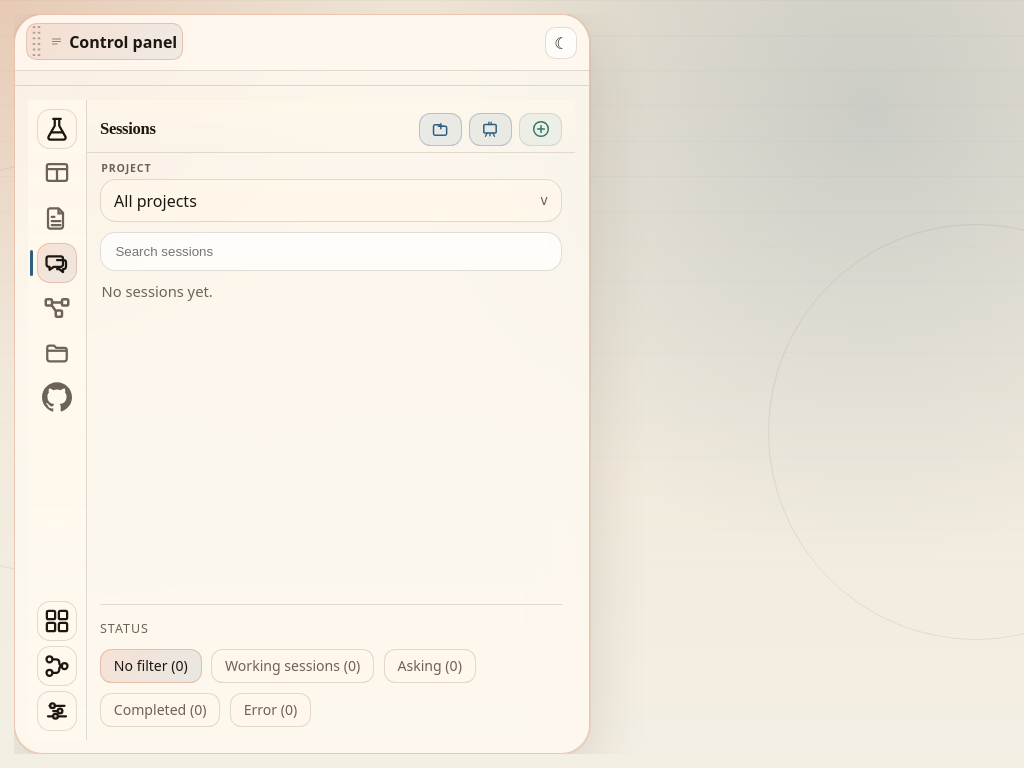
App workspace layout › saves the current workspace label and updates the Workspaces list and browser title
The width and height of the screenshot is (1024, 768).
Click the button named "Workspaces" at (57, 173), box [37,153,77,193]
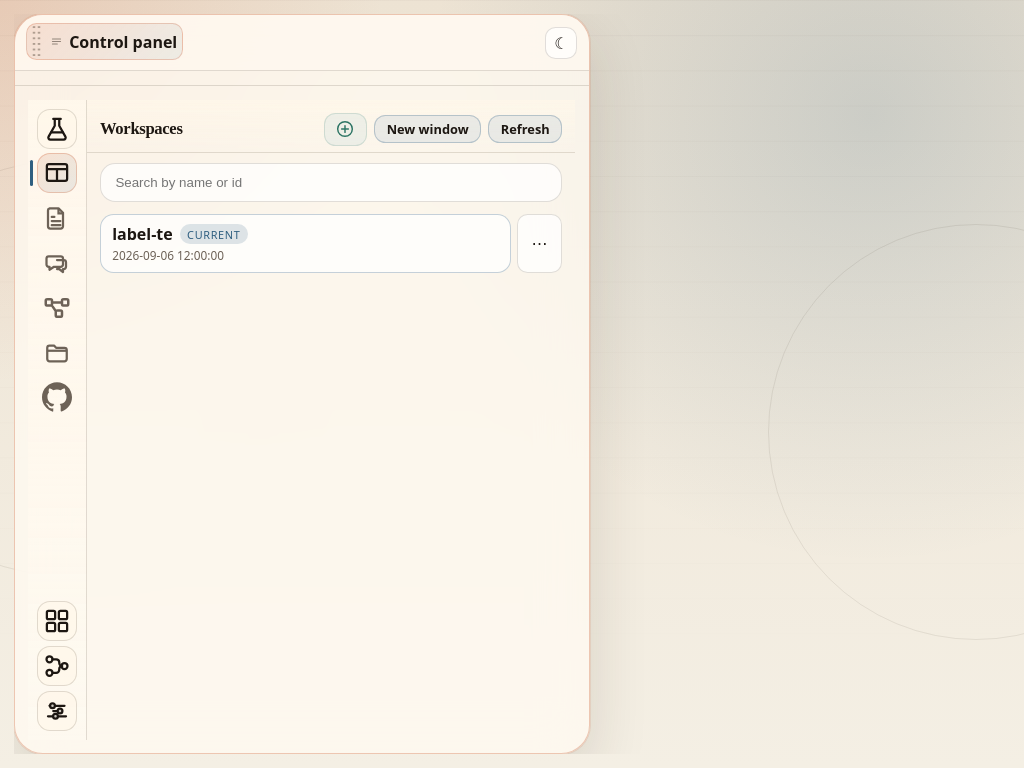
Click the button "⋯" at (540, 243), box [517,214,562,273]
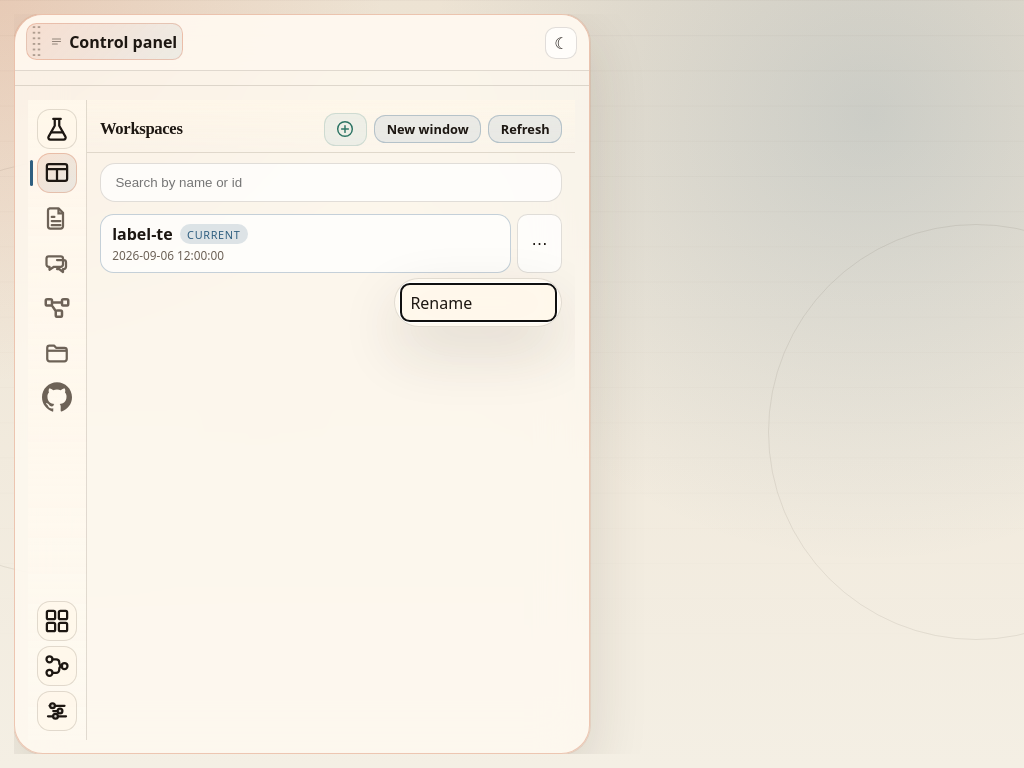
Click the menu item "Rename" at (478, 303), box [401,284,556,321]
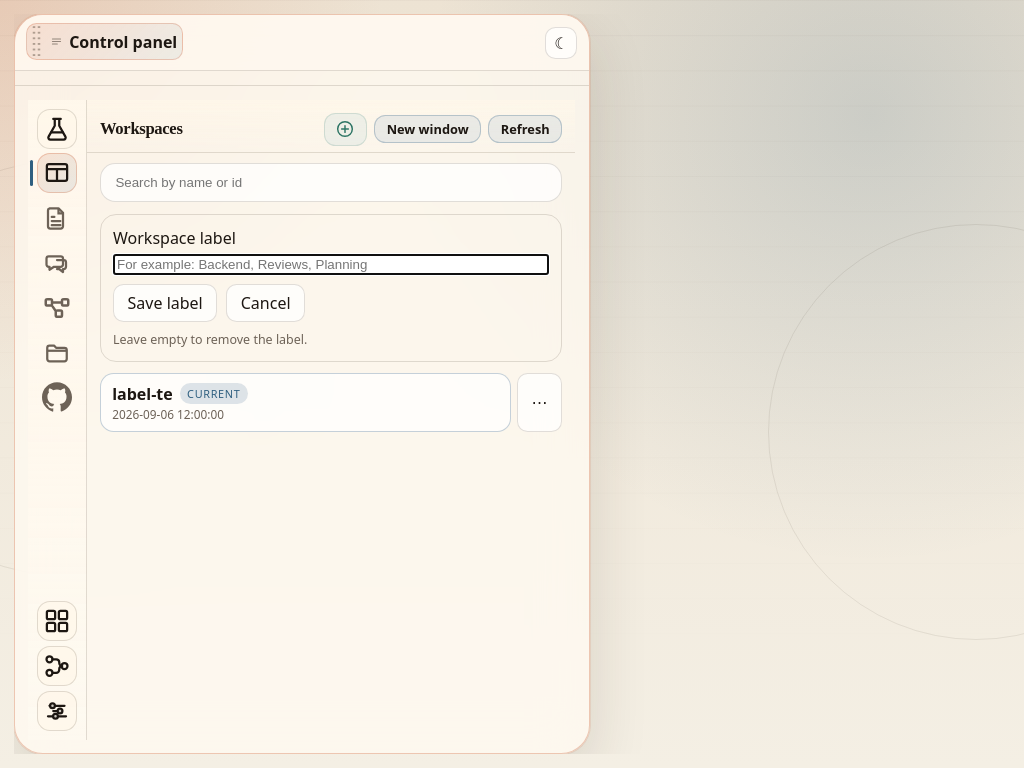
Type "  Backend  " into the field labelled "Workspace label" at (331, 265), box [113,254,549,275]
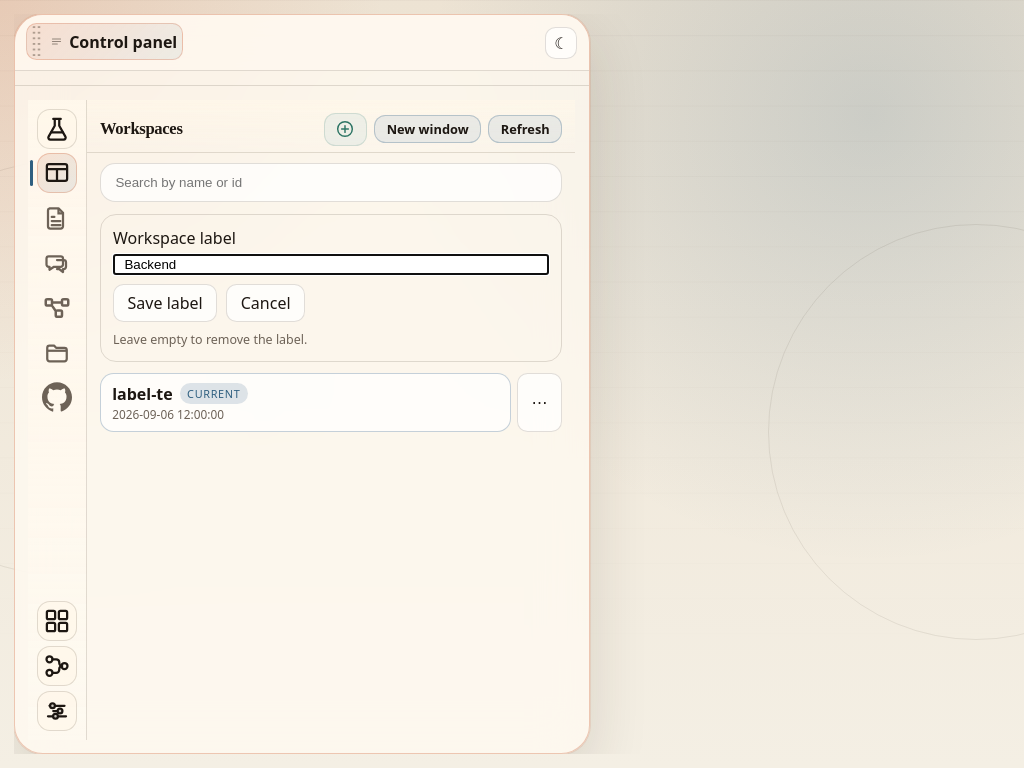
Click the button "Save label" at (165, 303), box [113,284,217,322]
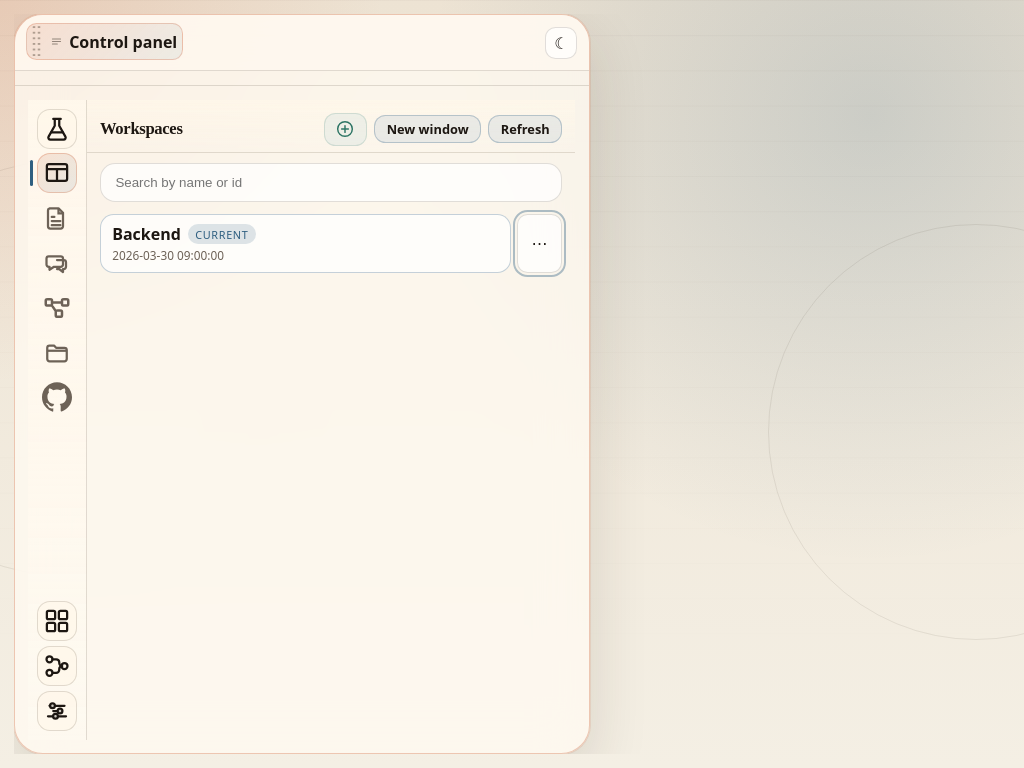
Result: the button with aria-label "Backend (current)" is shown at [100,214,511,273]
Result: the label "Workspace label" is gone
